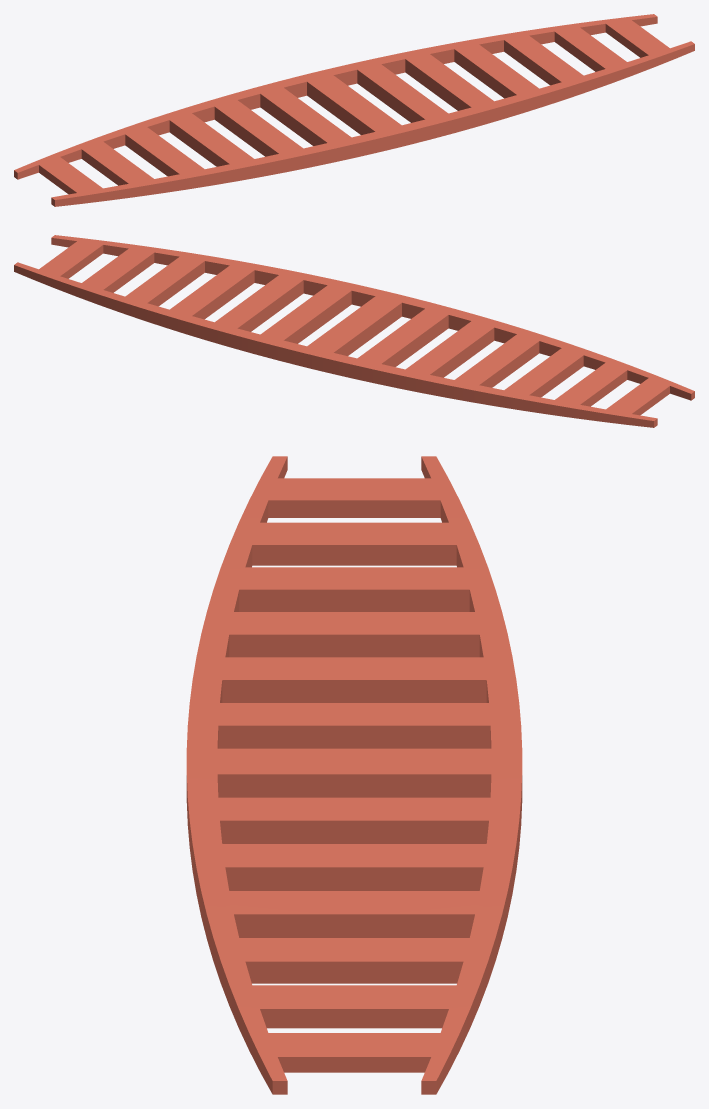
File: Bridge1.fbx
The picture shows the model from 3 angles, top to bottom: view 1: azimuth 30°, elevation 25°; view 2: azimuth 150°, elevation 25°; view 3: azimuth 270°, elevation 25°; orthographic projection. The views are drawn at different scales.
Parts seen in each view (by area): view 1: Ladder; view 2: Ladder; view 3: Ladder.
Boxes of the visible parts, x1,y1,x2,y2 form: Ladder: (14,14,694,206); Ladder: (14,235,694,427); Ladder: (186,456,522,1094).
Bounding box in the file's own units: 326 × 6.79 × 74.04.
